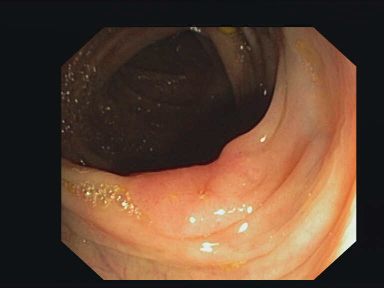polyp: (214, 128, 261, 165)
